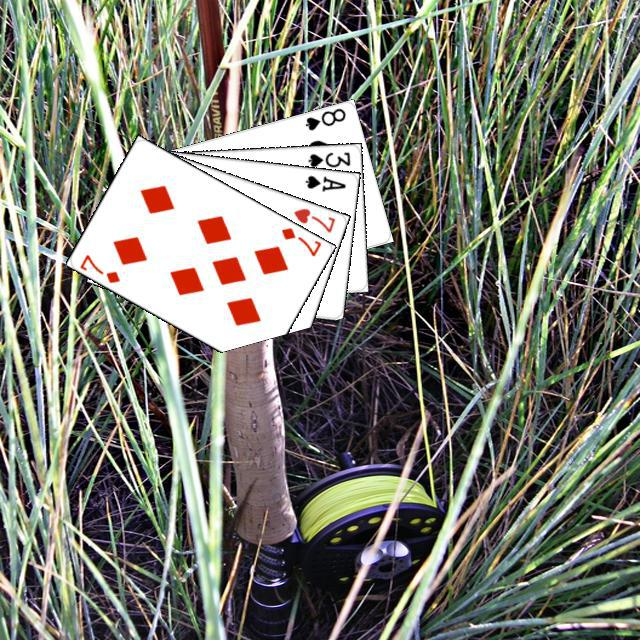3s: (303, 147, 352, 169)
7d: (75, 249, 122, 285), (276, 222, 322, 258)
7h: (289, 203, 337, 235)
8s: (300, 103, 347, 132)
As: (300, 170, 347, 193)
